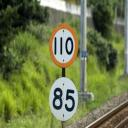speed_limit_110: (48, 23, 78, 68)
